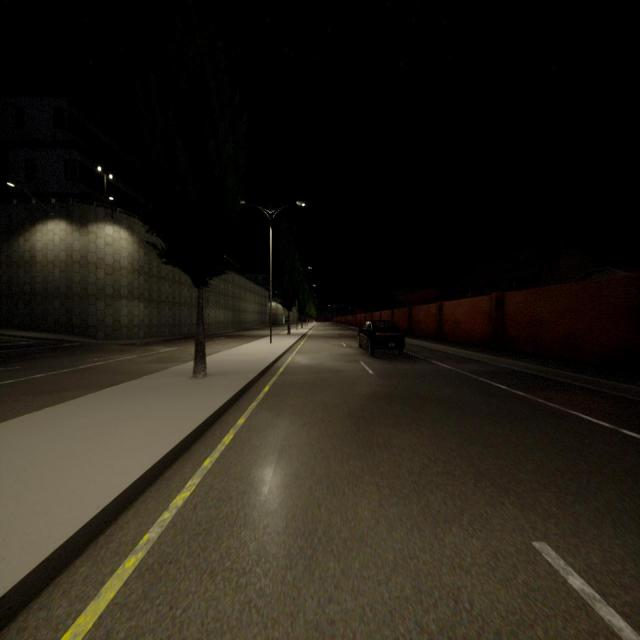Vehicle: (357, 320, 405, 354)
